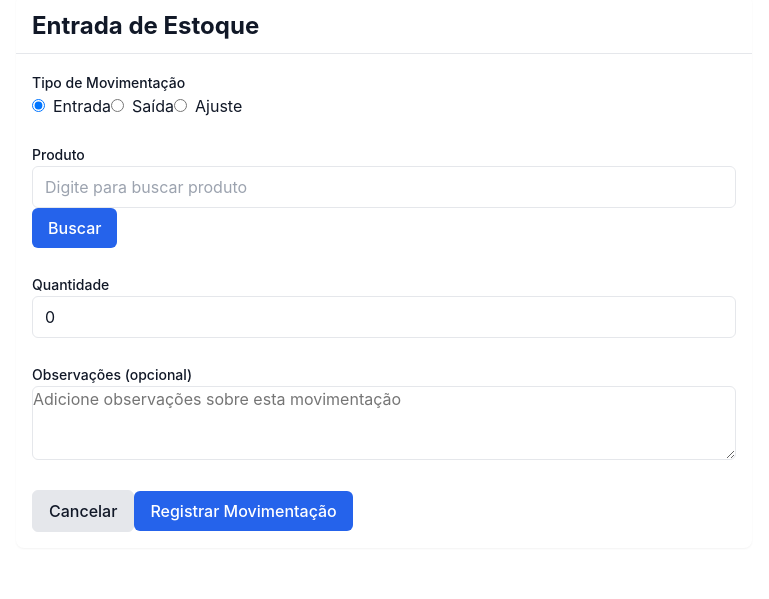
Test: InventoryMovementView › Form Validation › should show error when quantity is zero
The image size is (769, 599).
Step 1. Type "Test Product" into the field labelled "Produto" → coordinates (384, 187), box [32, 166, 736, 208]
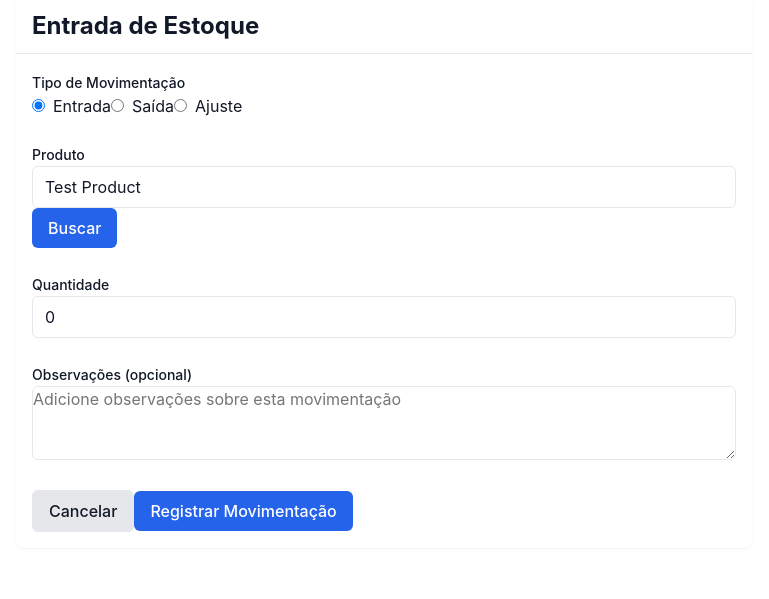
Note: Quantity is 0 by default
Step 2. Submit the form
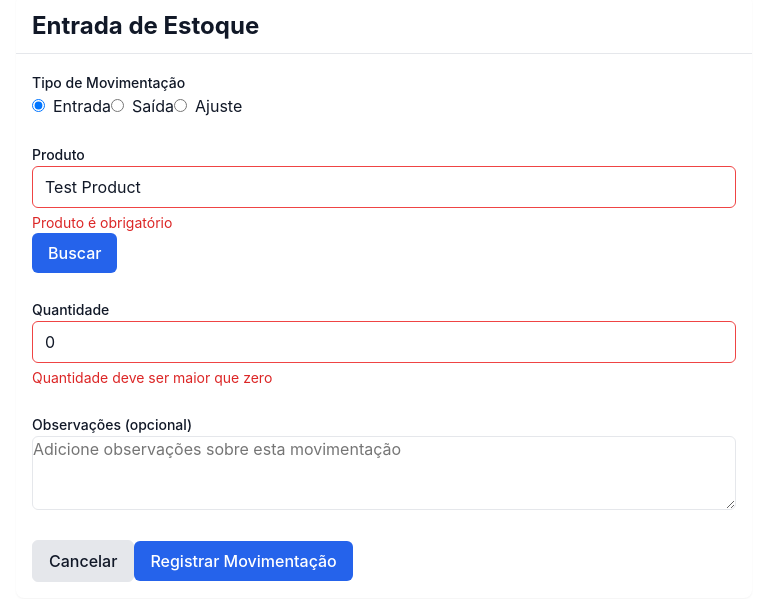
Expected: the text "Quantidade deve ser maior que zero" is shown, [32, 369, 272, 386]
